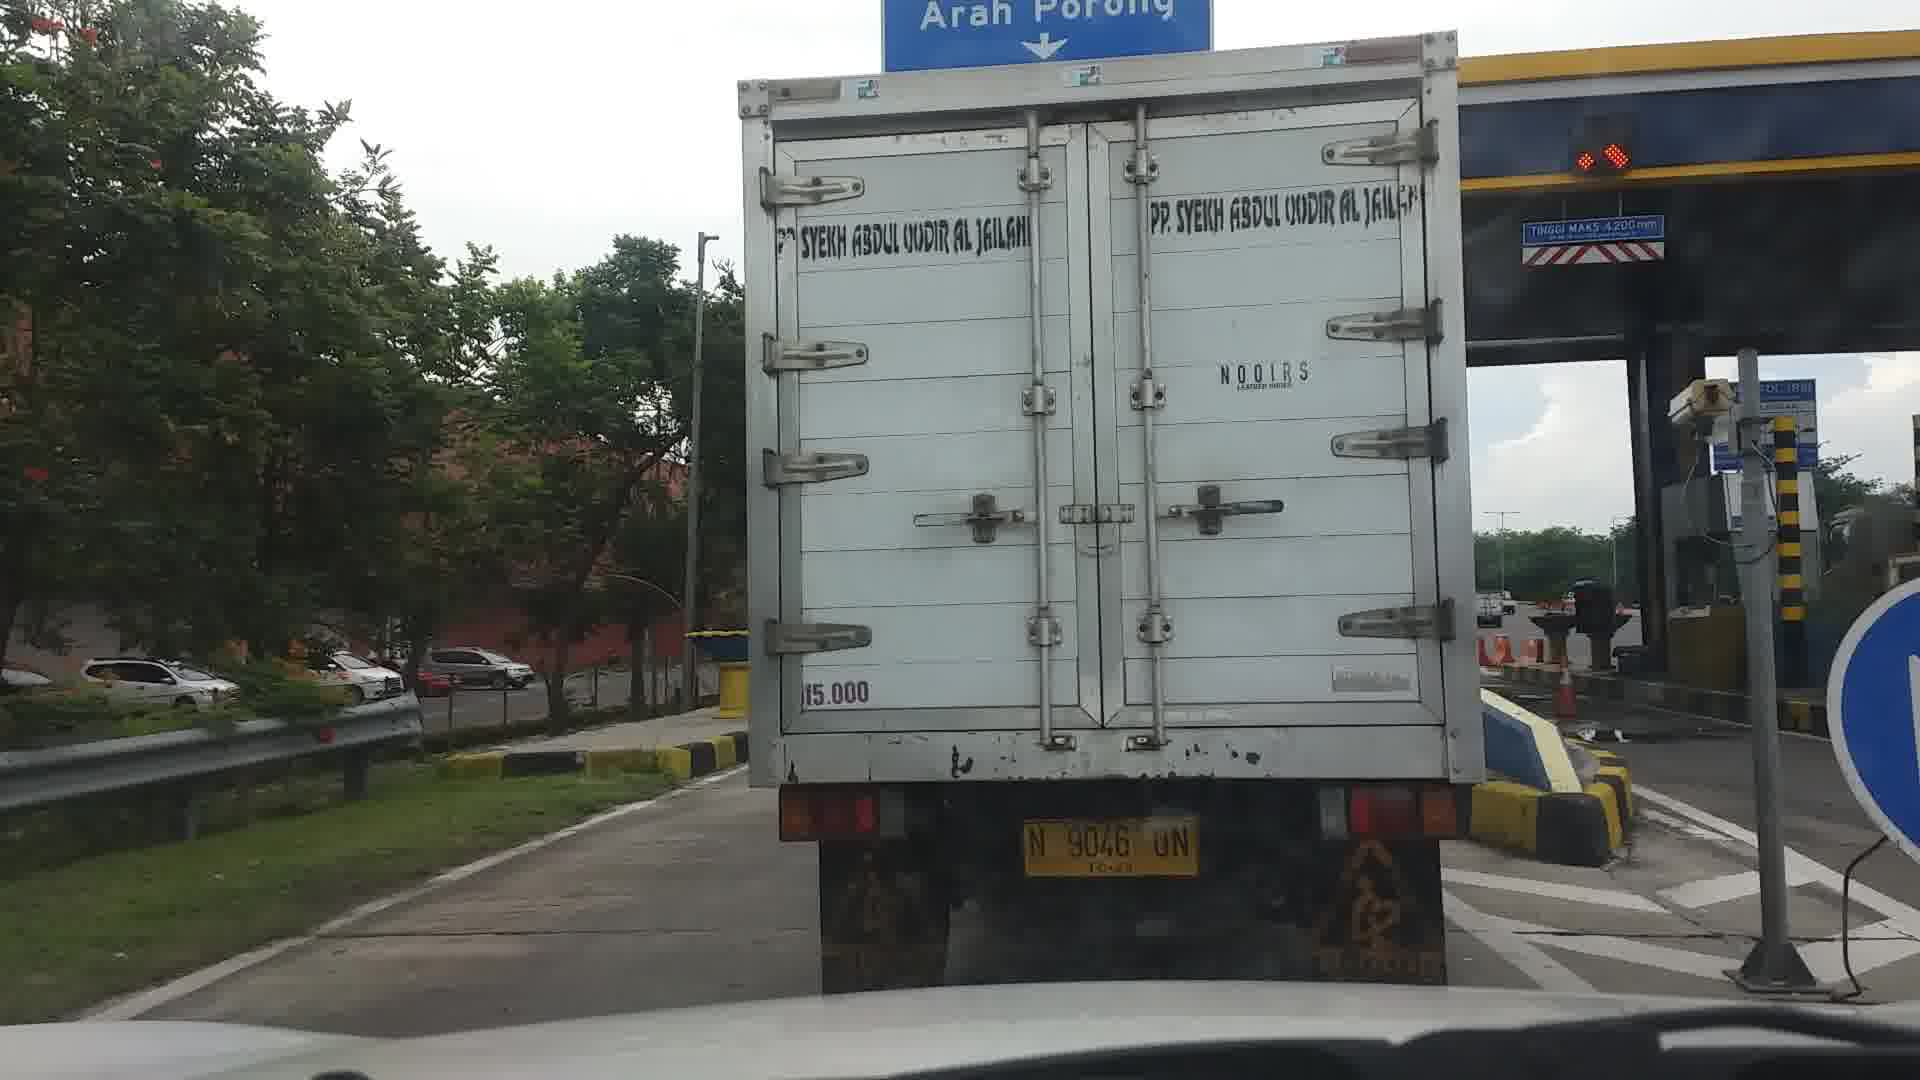plate_positive: (1022, 818, 1200, 878)
